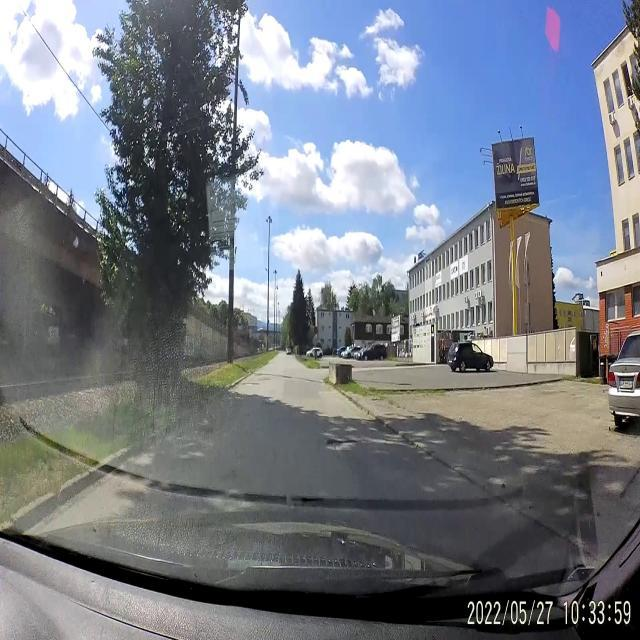Pothole: (326, 433, 356, 452), (242, 382, 260, 388)
